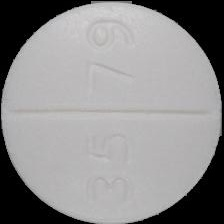0603-3900: (0, 0, 224, 224)
